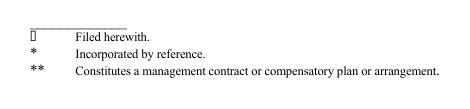table: (28, 28, 438, 77)
table column: (59, 28, 438, 77), (28, 28, 59, 77)
table column header: (28, 28, 438, 43)
table row: (28, 43, 438, 60), (28, 60, 438, 77), (28, 28, 438, 43)
